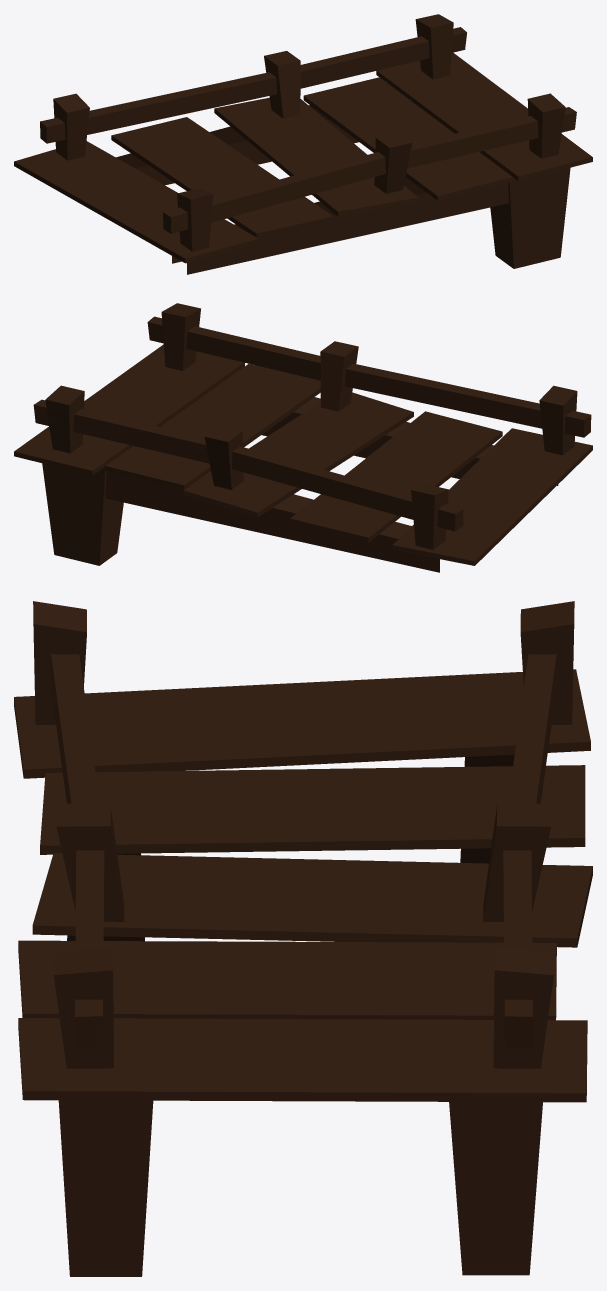
Rendered from dock.FBX.
3 views of the same model, one above another, from view 1: azimuth 30°, elevation 25°; view 2: azimuth 150°, elevation 25°; view 3: azimuth 270°, elevation 25° (orthographic). The views are drawn at different scales.
Parts seen in each view (by area): view 1: dock; view 2: dock; view 3: dock.
Part boxes in pixels (x1,y1,x2,y2): dock: (14, 14, 592, 274); dock: (14, 303, 592, 572); dock: (14, 601, 592, 1276).
Size of the model in its own units: 16.73 by 5.72 by 9.65.
